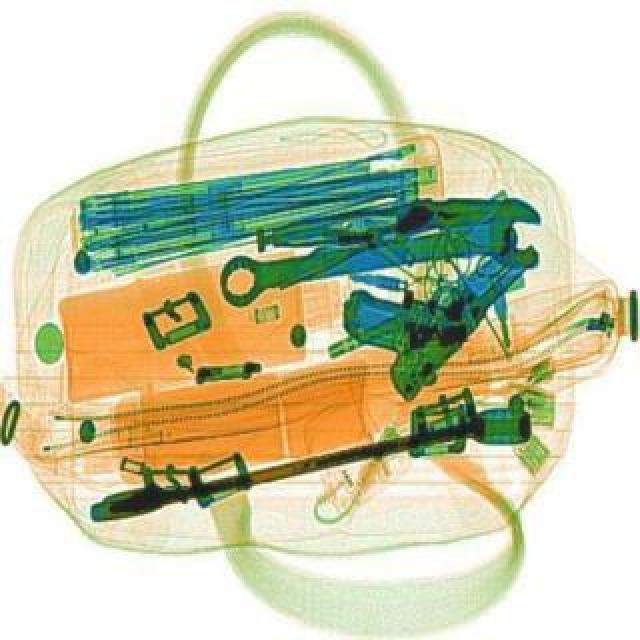gun: (318, 180, 546, 400)
scissors: (82, 400, 536, 530), (212, 192, 546, 310)
